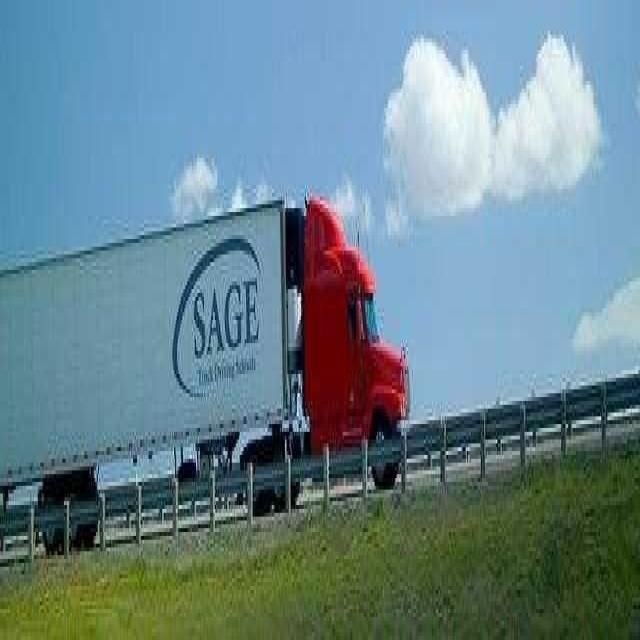Truck: (0, 177, 414, 567)
